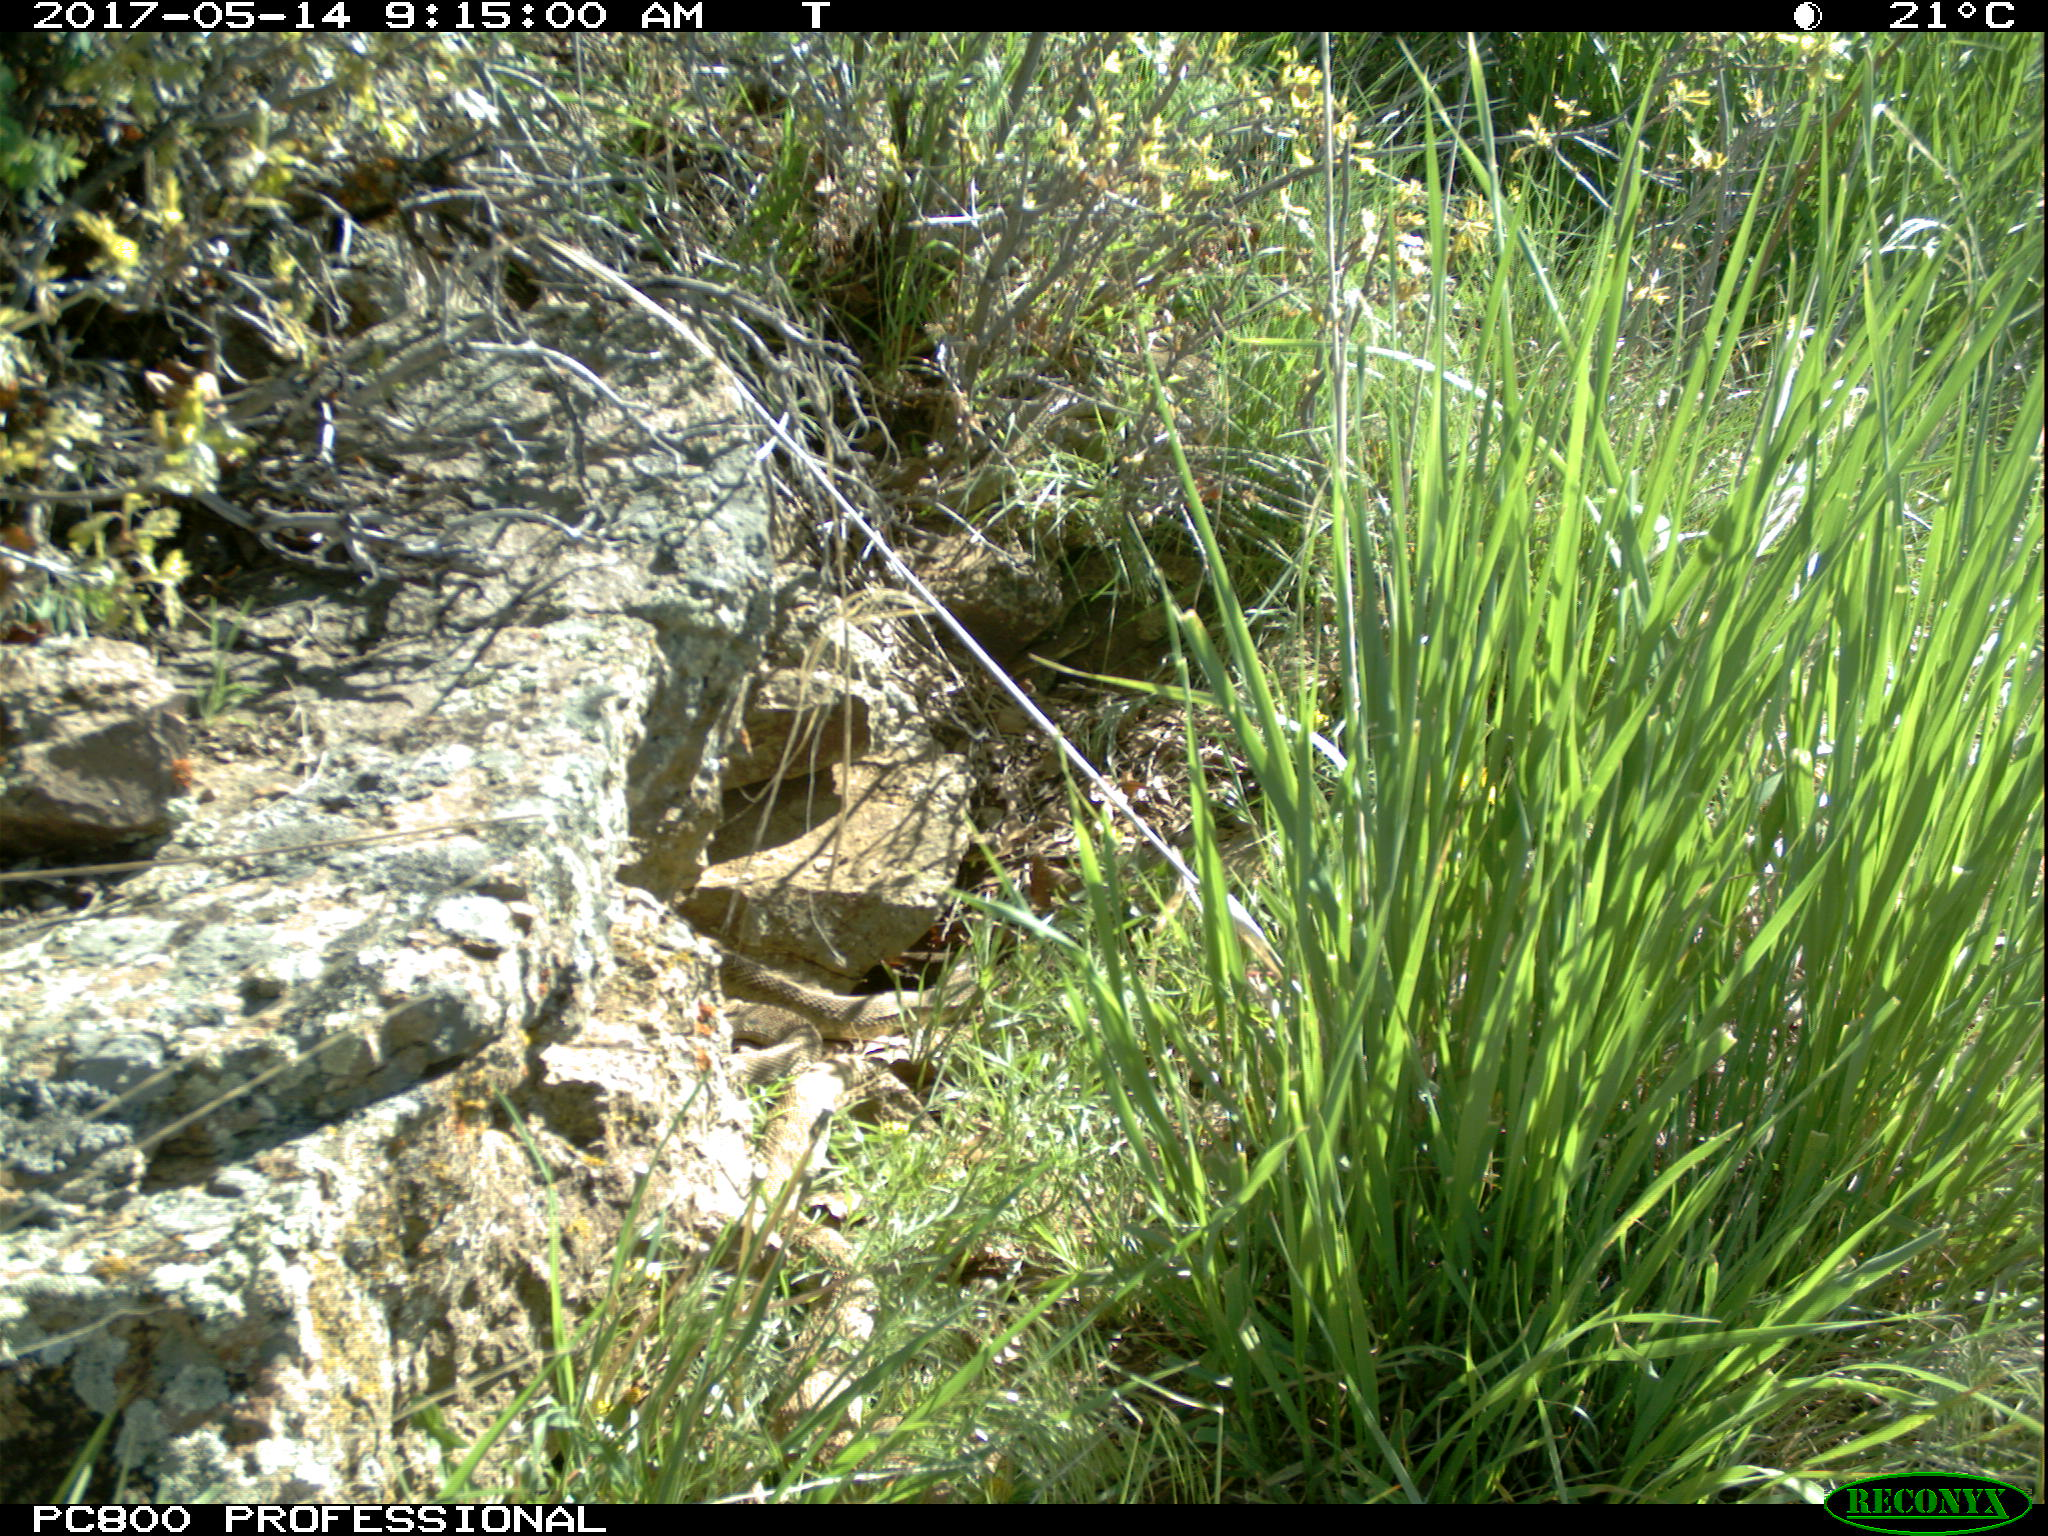snake: (748, 1054, 880, 1450), (710, 949, 980, 1041), (714, 986, 827, 1070)
